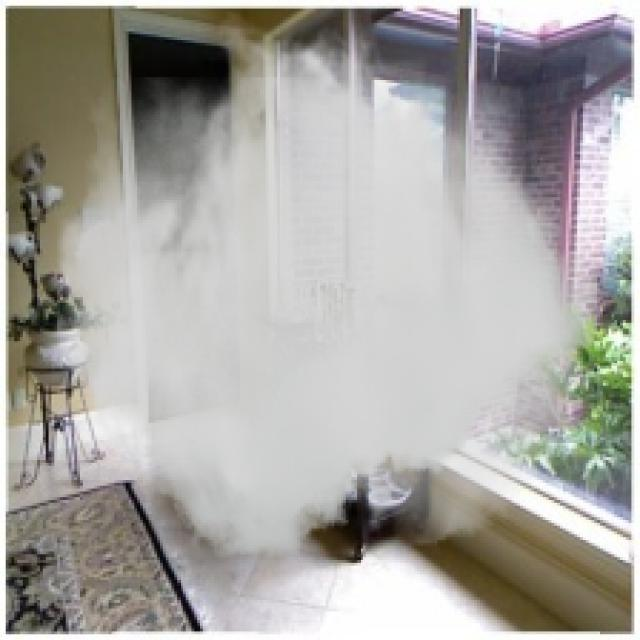Smoke: (48, 9, 598, 558)
